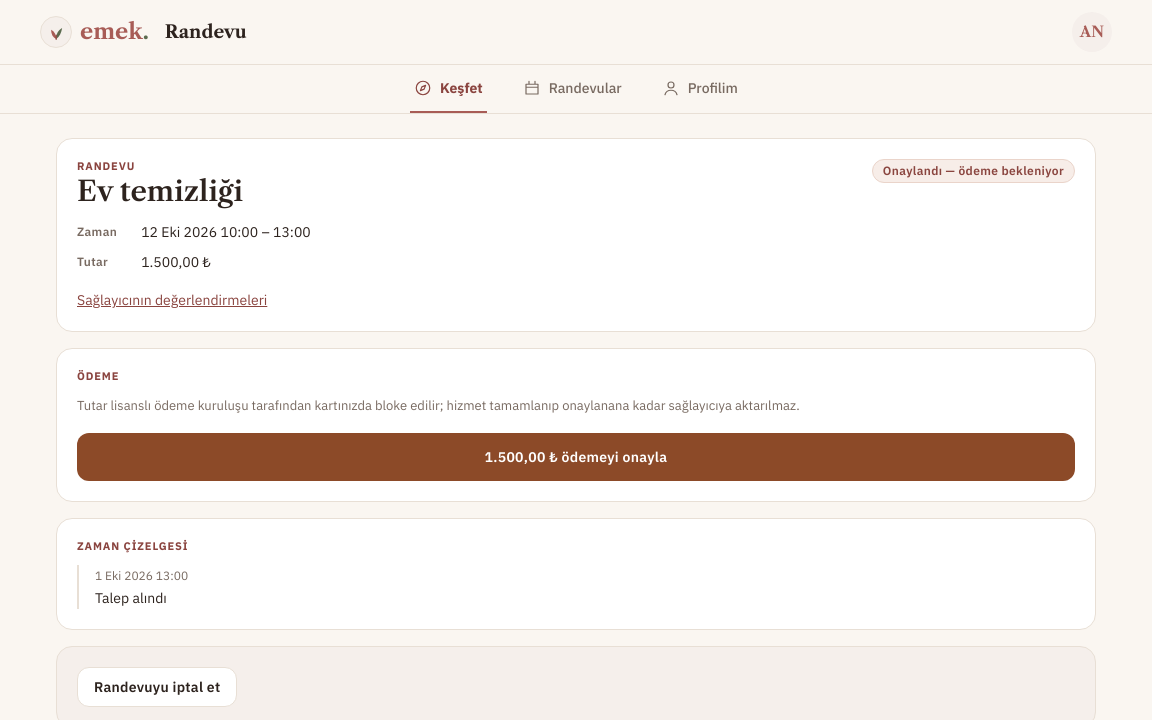
Randevu detayı › CONFIRMED: ödemeyi boş gövde + Idempotency-Key ile yetkilendirir
Expected: the button "Randevuyu iptal et" is shown, [77,667,238,707]
Click the button "1.500,00 ₺ ödemeyi onayla" at point(576, 457), box [77,433,1075,481]
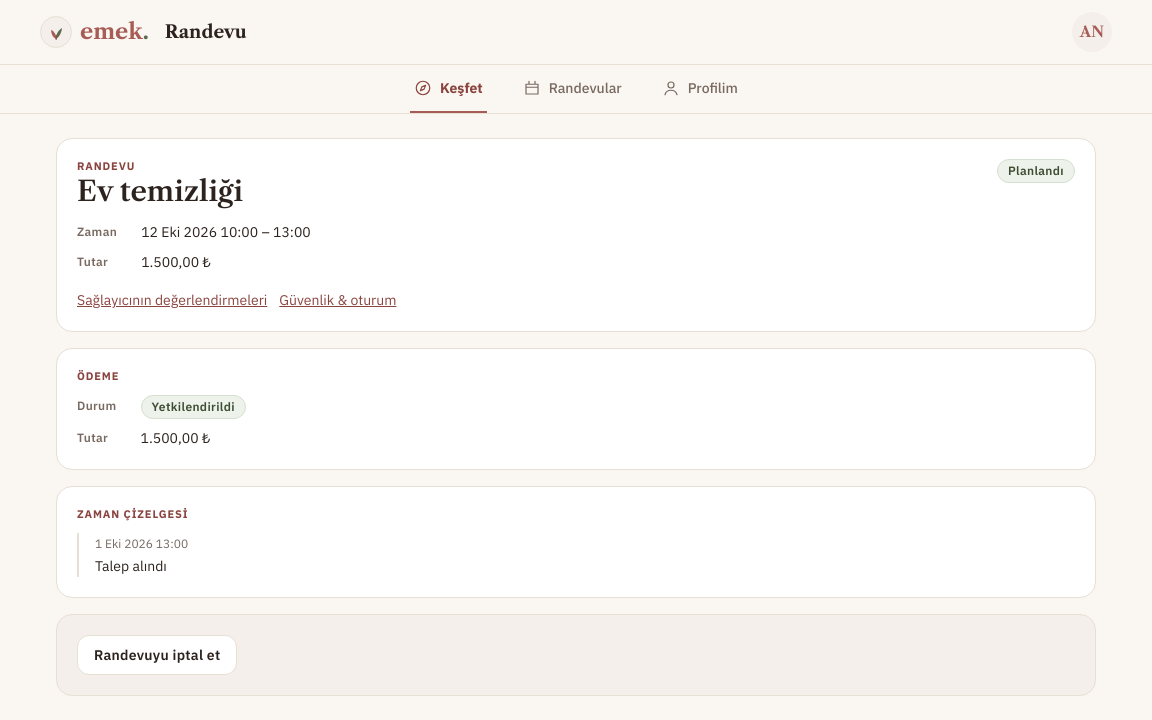
Expected: the text "Yetkilendirildi" is shown, [141,395,246,419]
Expected: the text "Planlandı" is shown, [997,159,1075,183]
Expected: the button "ödemeyi onayla" is gone
